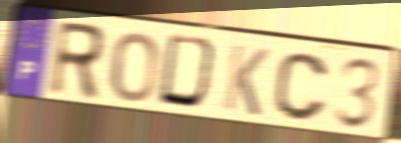3: (334, 56, 382, 131)
C: (271, 50, 330, 125)
D: (155, 31, 224, 115)
K: (221, 42, 271, 119)
O: (109, 30, 160, 105)
R: (45, 18, 106, 103)
